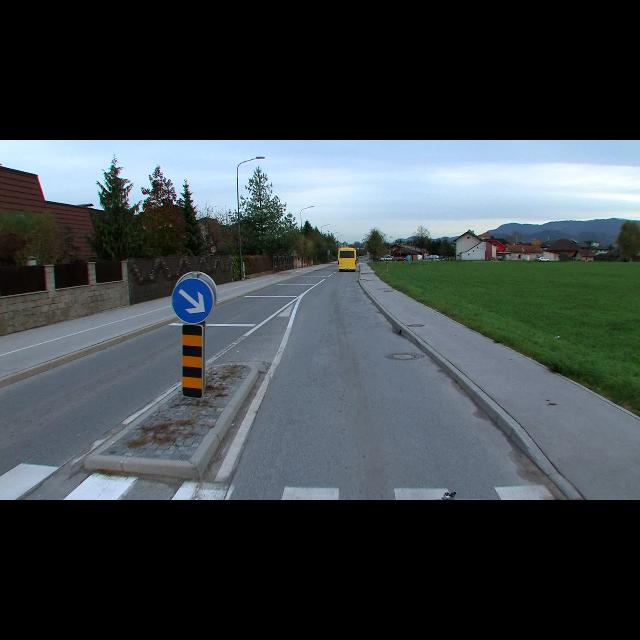Round: (171, 278, 213, 324)
